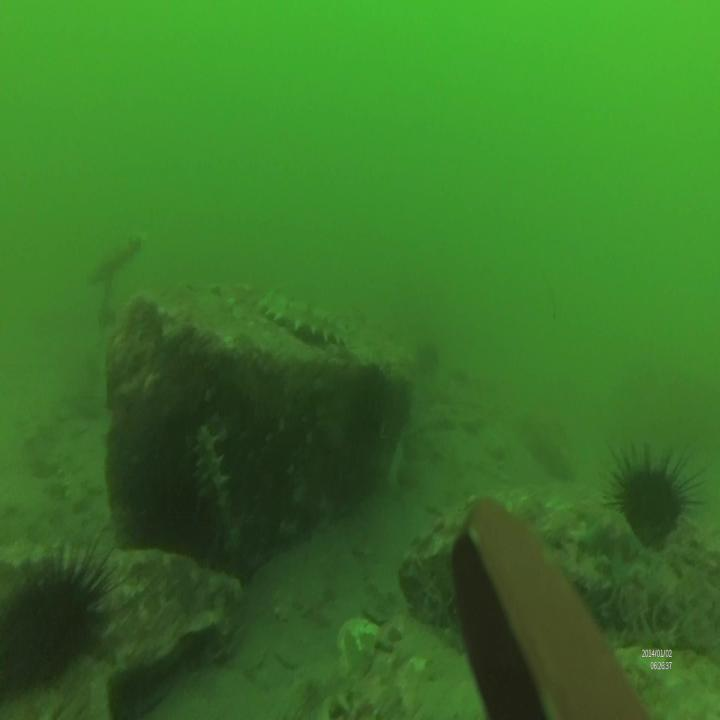echinus: (0, 542, 125, 686), (604, 434, 698, 547)
holothurian: (190, 424, 239, 563), (256, 290, 349, 348)
